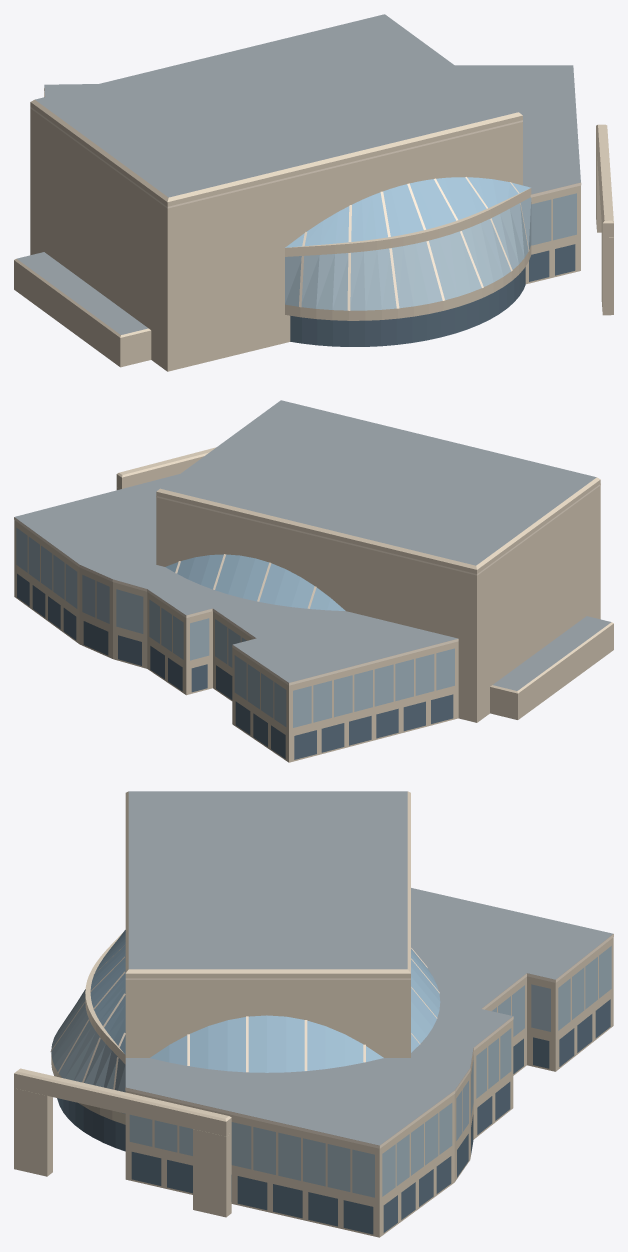
File: dal-meyerson-symphony-center.glb
The picture shows the model from 3 angles, top to bottom: view 1: azimuth 30°, elevation 25°; view 2: azimuth 150°, elevation 25°; view 3: azimuth 270°, elevation 25°; orthographic projection. The views are drawn at different scales.
Visible parts, largest first — view 1: Morton H. Meyerson Symphony Center; view 2: Morton H. Meyerson Symphony Center; view 3: Morton H. Meyerson Symphony Center.
Boxes of the visible parts, <box> form: Morton H. Meyerson Symphony Center: <box>14,14,613,371</box>; Morton H. Meyerson Symphony Center: <box>14,400,613,762</box>; Morton H. Meyerson Symphony Center: <box>14,791,613,1237</box>.
Bounding box in the file's own units: 103 × 30.4 × 92.06.
